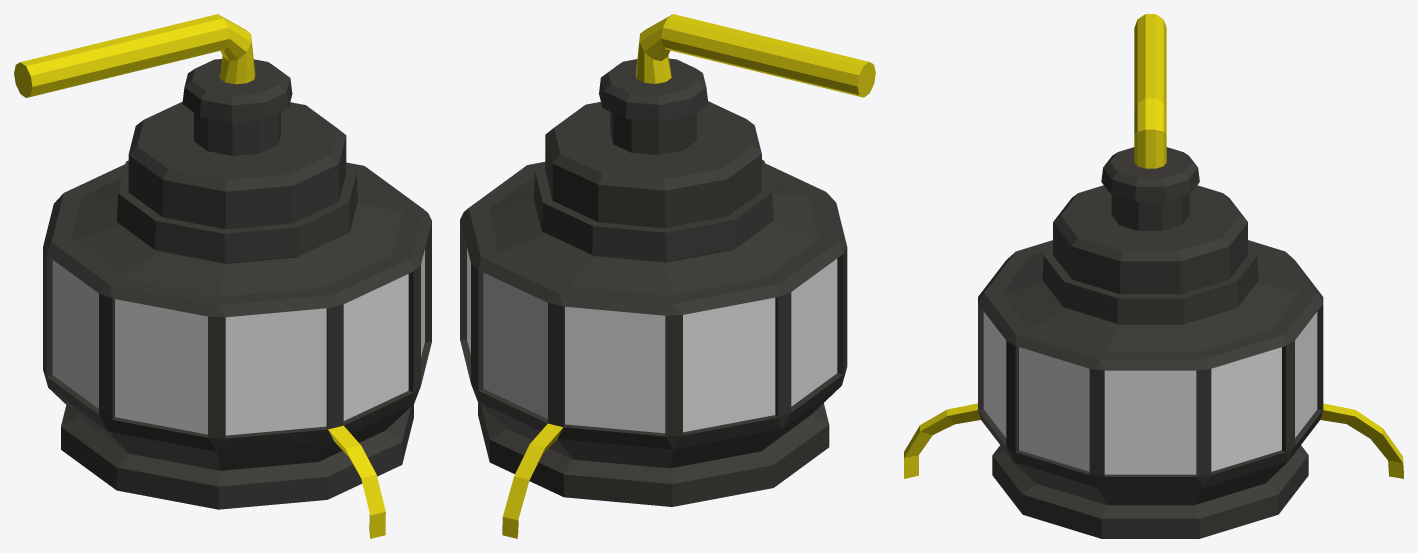
Rendered from Wireless Charging.fbx.
The picture shows the model from 3 angles, left to right: view 1: azimuth 30°, elevation 25°; view 2: azimuth 150°, elevation 25°; view 3: azimuth 270°, elevation 25°; orthographic projection. The views are drawn at different scales.
Parts seen in each view (by area): view 1: Wireless Charging; view 2: Wireless Charging; view 3: Wireless Charging.
Boxes of the visible parts, x1,y1,x2,y2 form: Wireless Charging: [14, 14, 431, 538]; Wireless Charging: [460, 14, 875, 538]; Wireless Charging: [904, 14, 1403, 538].
Size of the model in its own units: 622 by 663 by 810.
